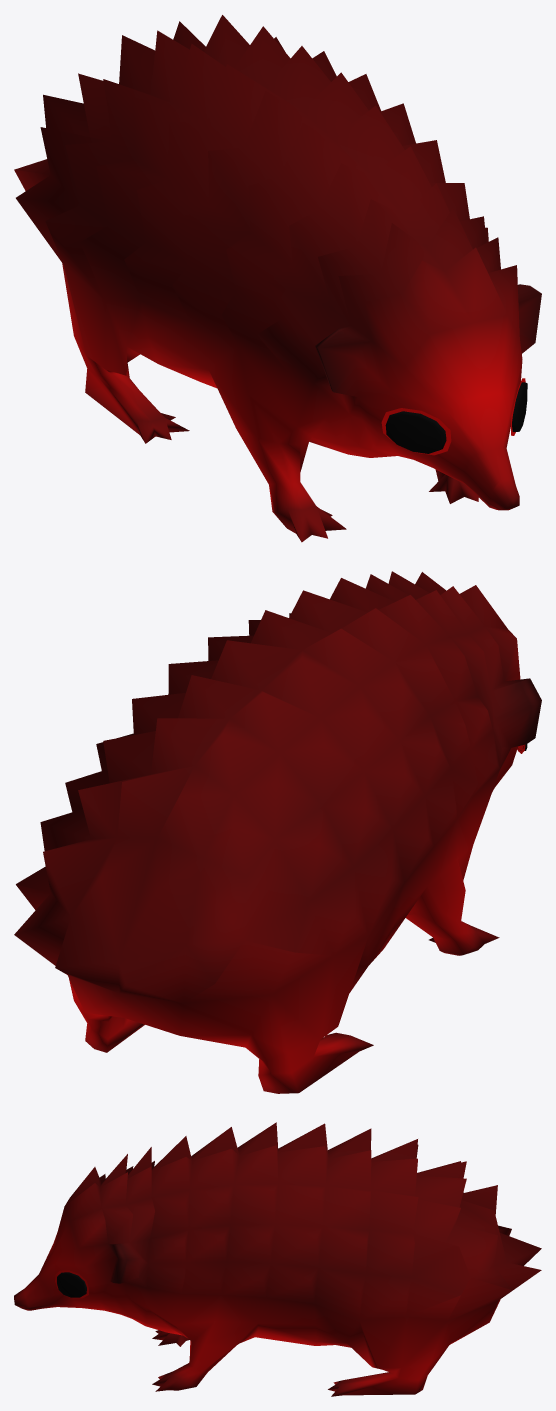
Rendered from Animals_Hedgehog.fbx.
3 renders of one model, top to bottom at view 1: azimuth 30°, elevation 25°; view 2: azimuth 150°, elevation 25°; view 3: azimuth 270°, elevation 25°, orthographic. The views are drawn at different scales.
Visible parts, largest first — view 1: base; view 2: base; view 3: base.
Part boxes in pixels (x1,y1,x2,y2): base: [14, 15, 541, 542]; base: [14, 571, 541, 1093]; base: [14, 1122, 541, 1396].
Bounding box in the file's own units: 17.63 × 19.84 × 41.59.
